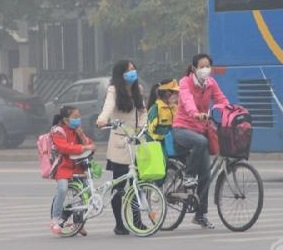person: (97, 58, 155, 237), (175, 51, 228, 233), (36, 104, 97, 237), (148, 77, 181, 142)
